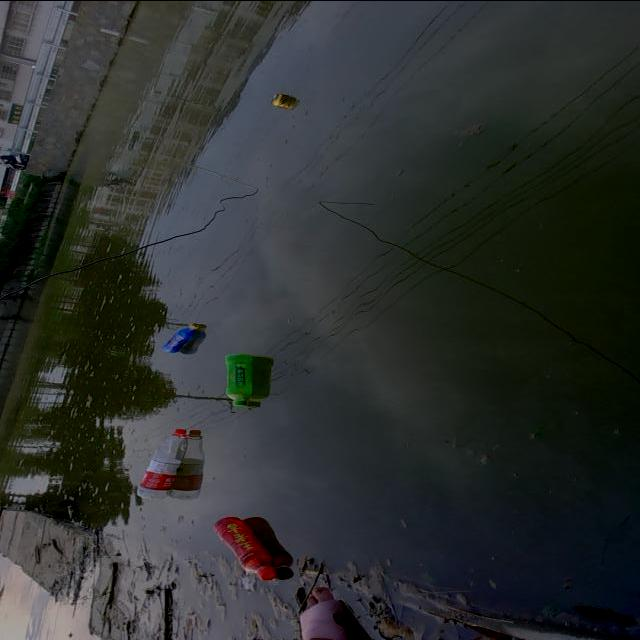bottle: (121, 400, 206, 504), (204, 508, 292, 586), (219, 333, 266, 421), (286, 594, 374, 640), (156, 314, 208, 368)
